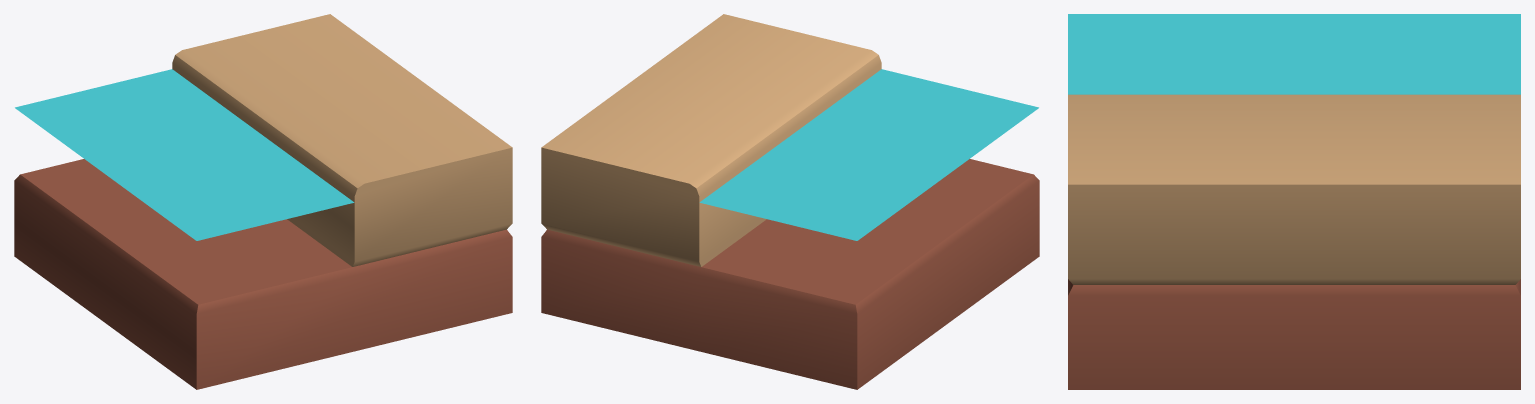
The model's file is kaykit-square-sand-waterstraight-nosides.glb.
The picture shows the model from 3 angles, left to right: view 1: azimuth 30°, elevation 25°; view 2: azimuth 150°, elevation 25°; view 3: azimuth 270°, elevation 25°; orthographic projection. The views are drawn at different scales.
Visible parts, largest first — view 1: square_sand_waterStraight_noSides; view 2: square_sand_waterStraight_noSides; view 3: square_sand_waterStraight_noSides.
Part boxes in pixels (x1,y1,x2,y2): square_sand_waterStraight_noSides: (14,14,512,389); square_sand_waterStraight_noSides: (541,14,1039,389); square_sand_waterStraight_noSides: (1068,14,1520,389).
Bounding box in the file's own units: 2 × 1 × 2.
